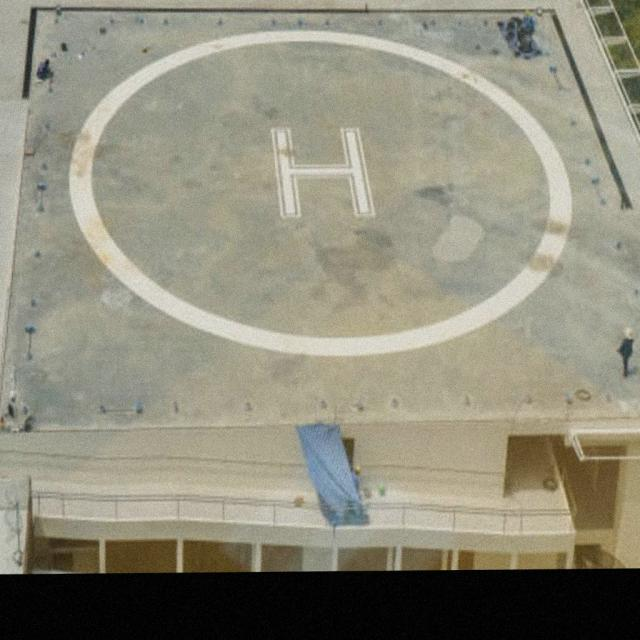helipad: (64, 26, 575, 361)
